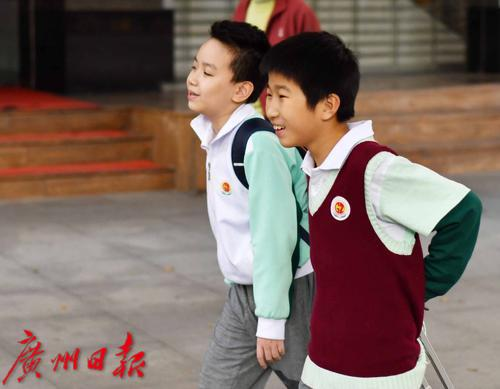no_mask: (263, 30, 361, 149), (182, 17, 268, 116)
